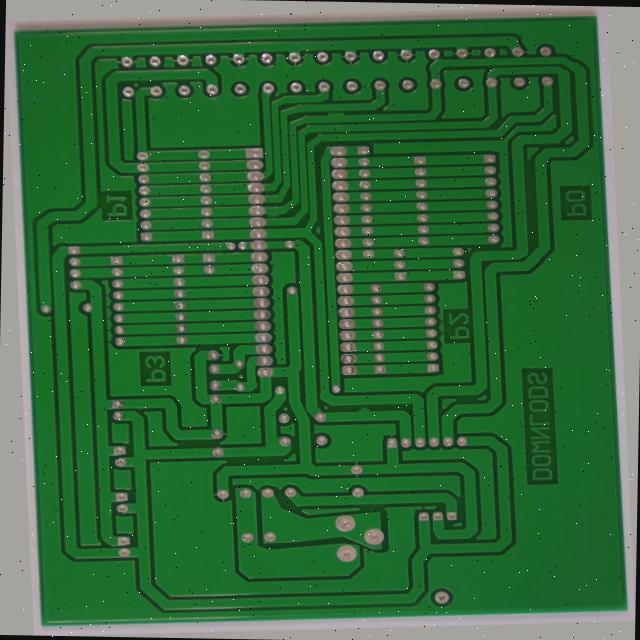spur: (348, 408, 375, 423), (338, 100, 365, 112), (268, 200, 287, 211)
